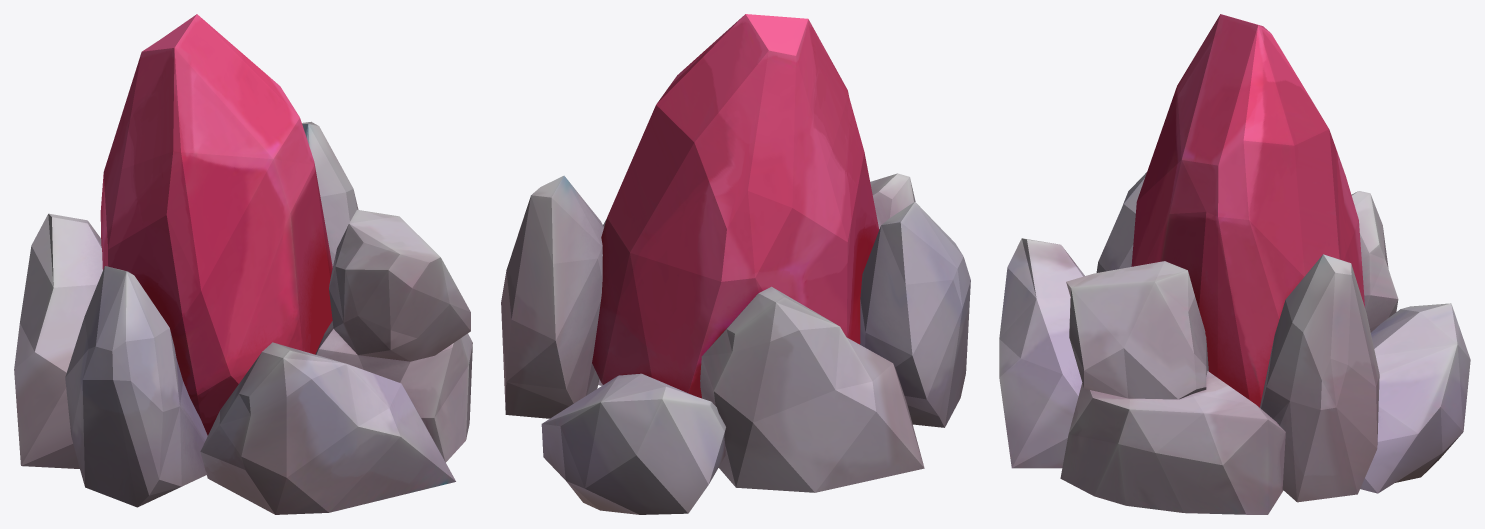
Rendered from SM_Rocks_Luna_B.fbx.
The picture shows the model from 3 angles, left to right: view 1: azimuth 30°, elevation 25°; view 2: azimuth 150°, elevation 25°; view 3: azimuth 270°, elevation 25°; orthographic projection. The views are drawn at different scales.
Parts seen in each view (by area): view 1: SM_Rocks_Luna_B; view 2: SM_Rocks_Luna_B; view 3: SM_Rocks_Luna_B.
Boxes of the visible parts, x1,y1,x2,y2 form: SM_Rocks_Luna_B: [14, 14, 472, 514]; SM_Rocks_Luna_B: [501, 14, 970, 514]; SM_Rocks_Luna_B: [999, 14, 1470, 514].
Bounding box in the file's own units: 194 × 198 × 203.
1 material, 1 textured.
